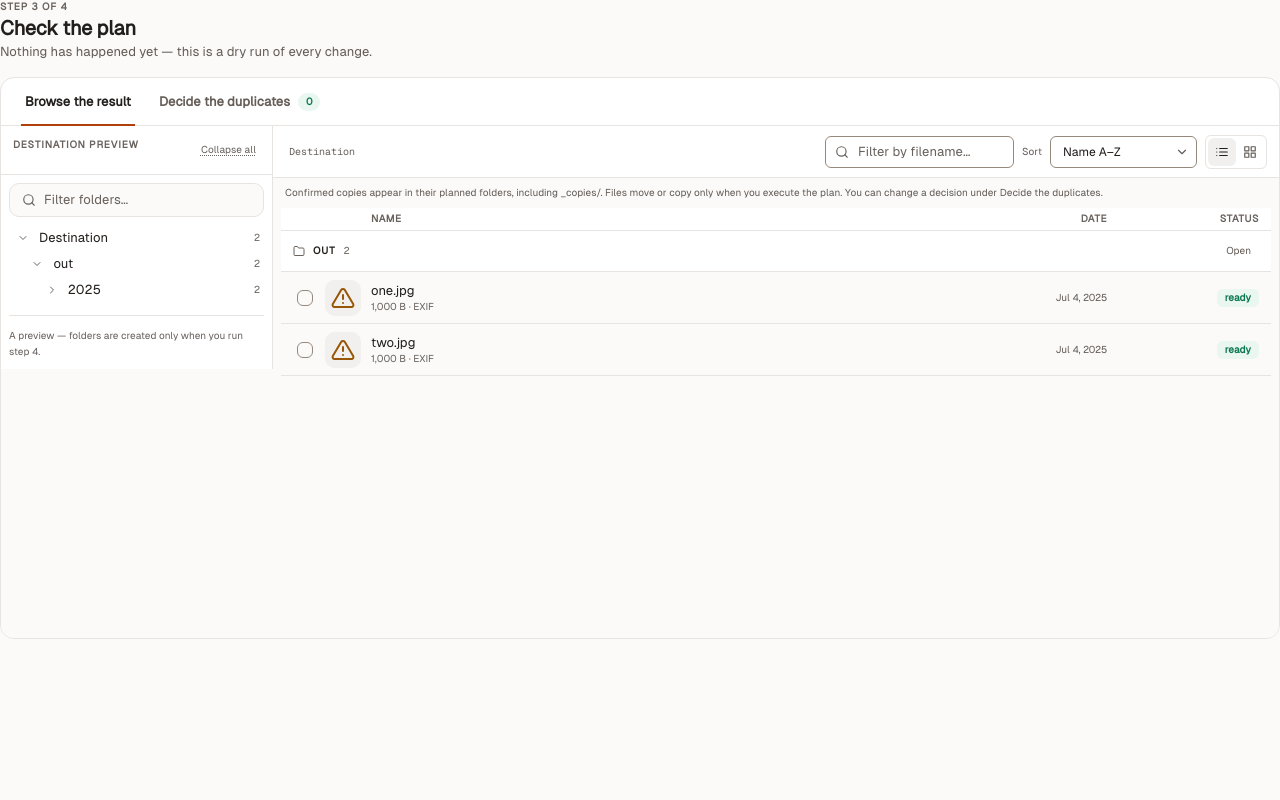
Test: selecting a file and opening a file are different gestures › walks the folder from the detail view, not only a duplicate set
Click the text "one.jpg".
click(393, 290)  # box top-left (371, 282), bottom-right (415, 298)
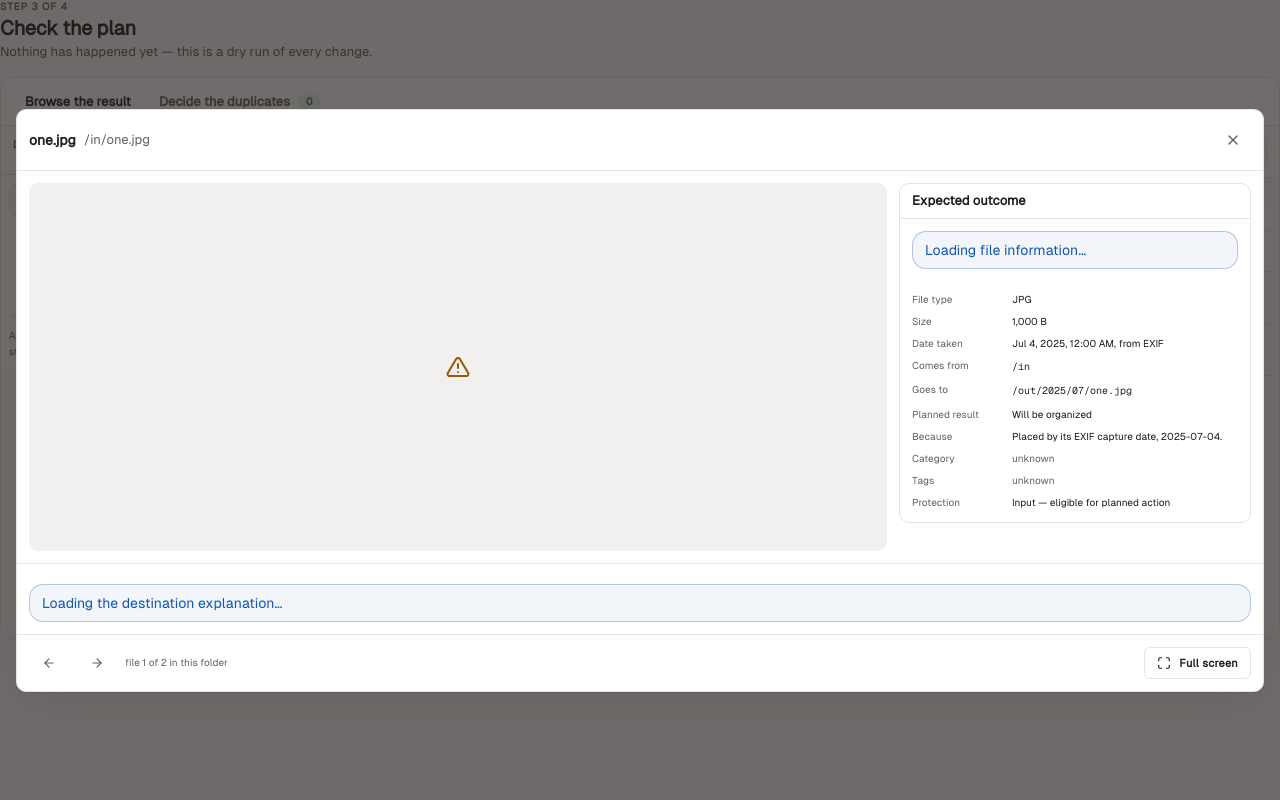
Expected: the button named "Next file" is enabled
Click the button named "Next file".
click(97, 662)  # box top-left (77, 646), bottom-right (117, 678)
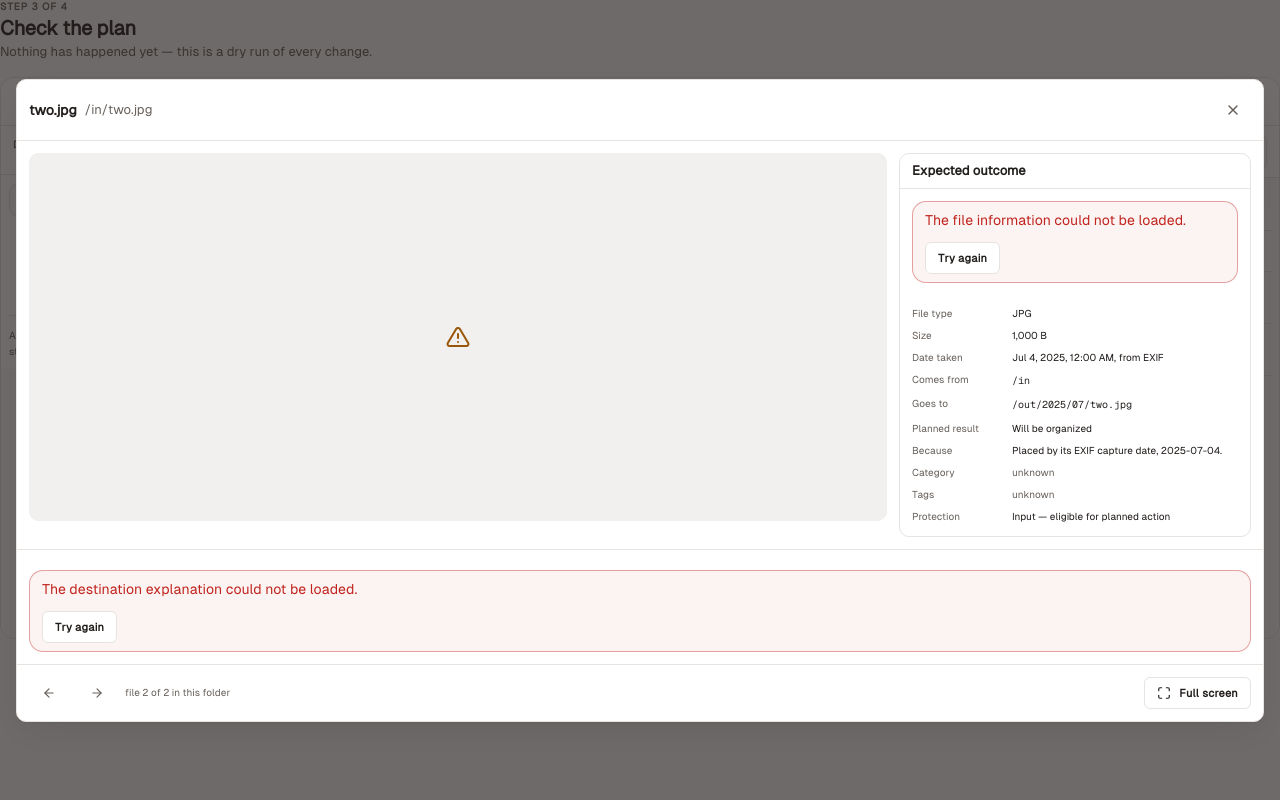
Expected: the heading "two.jpg" is shown, top-left (29, 100), bottom-right (77, 120)
